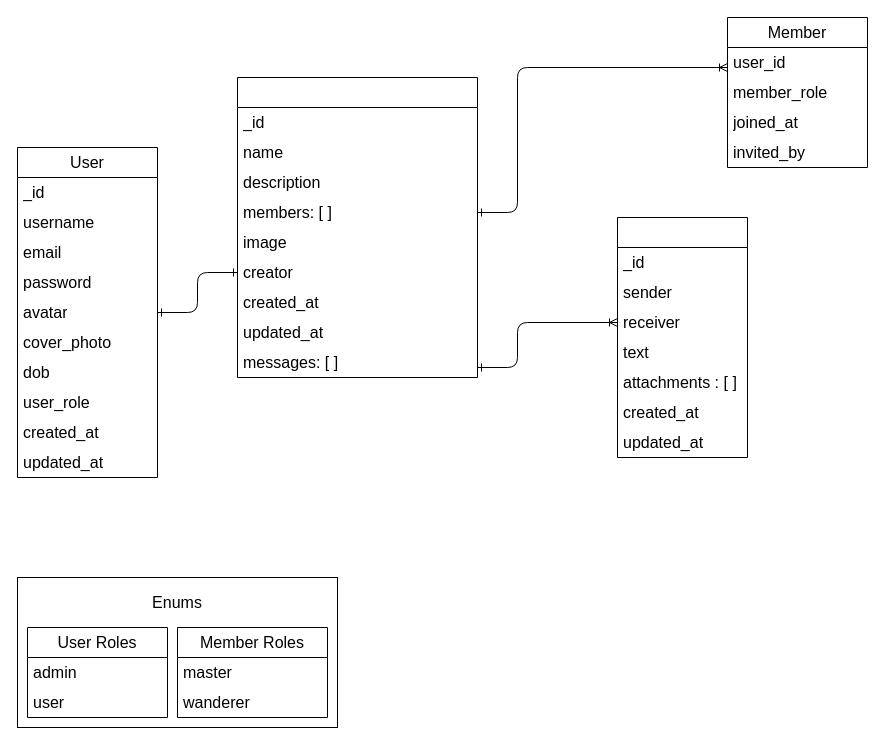
Some shapes in this 885 by 745 pixel diagram are drawn without their labels. The shapes that lost their labels are listed below. From the top down, each one's box as (x1, y1, x2, y2) in pixels, then its label:
(236, 76, 478, 378): Chasm
(616, 216, 748, 458): Message
